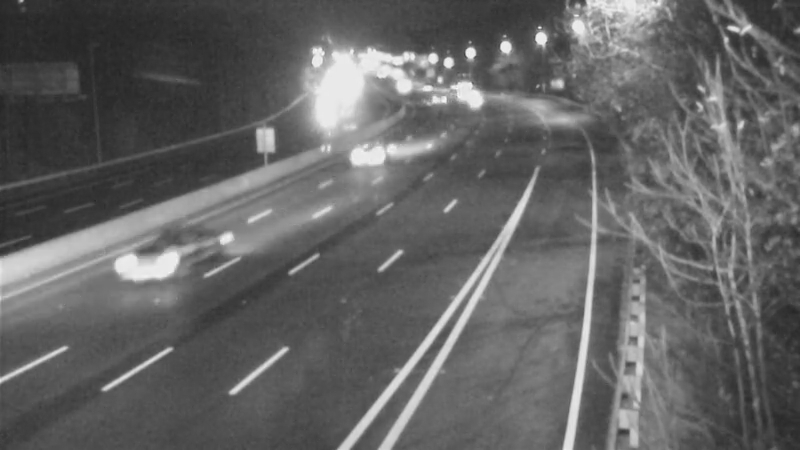vehicle: (113, 223, 193, 303), (416, 74, 466, 124), (347, 122, 397, 172), (299, 88, 349, 138)
